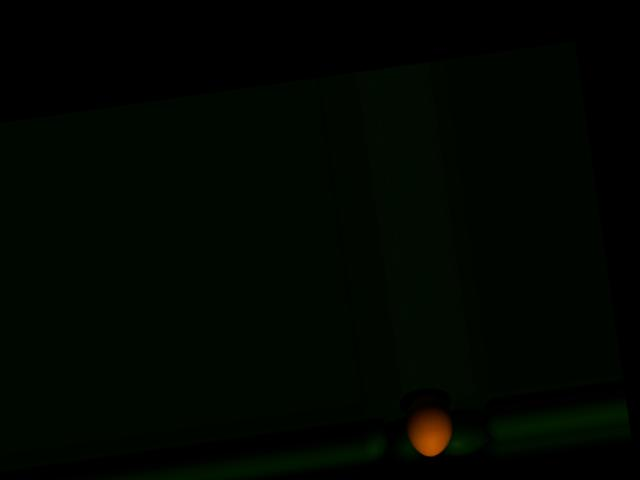egg: (401, 390, 457, 458)
